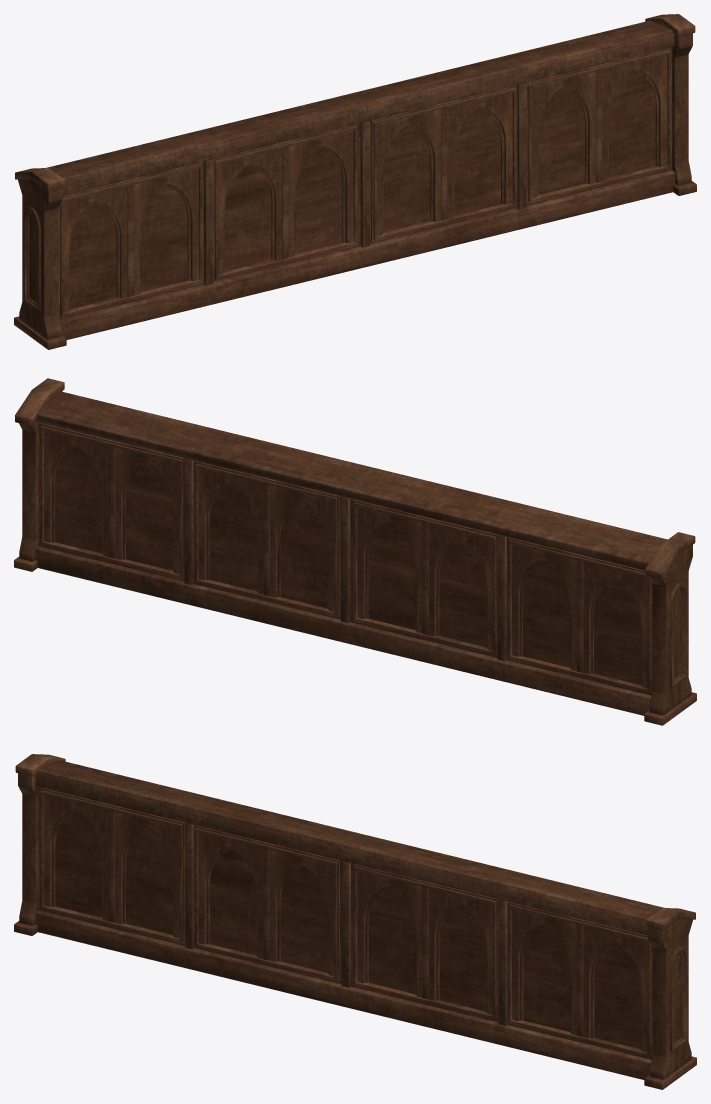
The model's file is Partition_A.fbx.
The picture shows the model from 3 angles, top to bottom: view 1: azimuth 30°, elevation 25°; view 2: azimuth 150°, elevation 25°; view 3: azimuth 330°, elevation 25°; orthographic projection.
Parts seen in each view (by area): view 1: Partition_A; view 2: Partition_A; view 3: Partition_A.
Part boxes in pixels (box(x1,y1,x2,y2)): Partition_A: box(14, 14, 696, 349); Partition_A: box(14, 378, 696, 725); Partition_A: box(14, 754, 696, 1089).
Bounding box in the file's own units: 5.6 × 1.37 × 0.5171.
